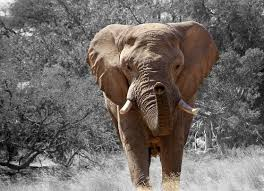Elephant: (85, 17, 218, 190)
